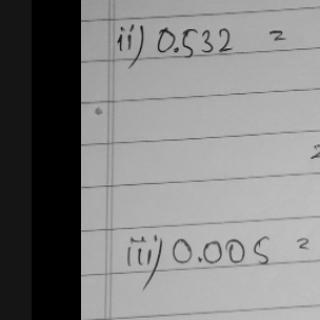.: (170, 44, 184, 56), (193, 252, 203, 265)
0: (224, 239, 246, 266), (156, 27, 175, 55), (172, 236, 191, 264), (204, 238, 222, 265)
2: (217, 27, 234, 52)
3: (201, 29, 213, 54)
5: (177, 28, 200, 59), (251, 234, 271, 264)
